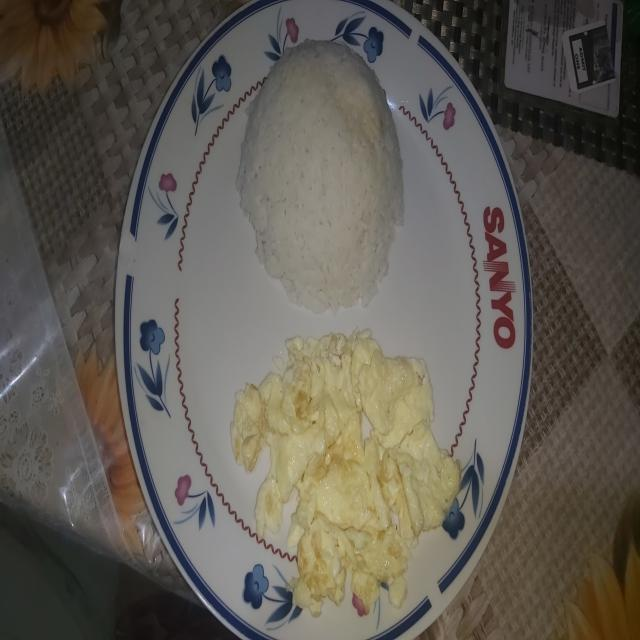Chicken -Chicken Inasal-: (243, 36, 404, 306)
